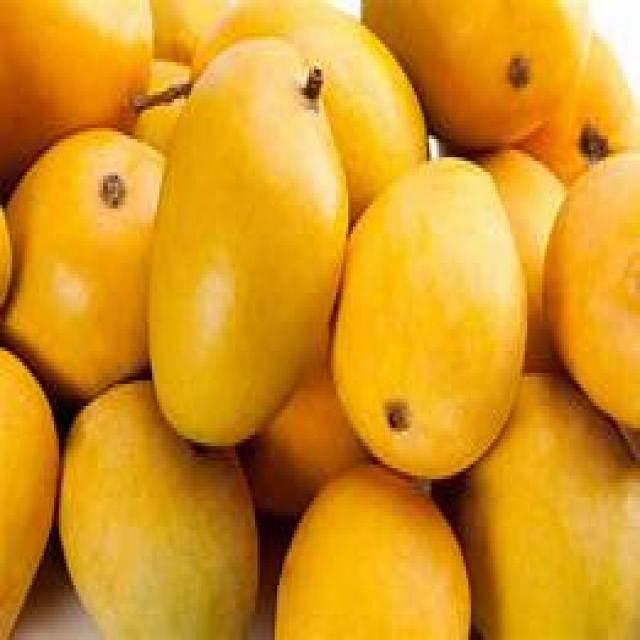mango: (147, 32, 347, 442), (332, 149, 530, 485)
